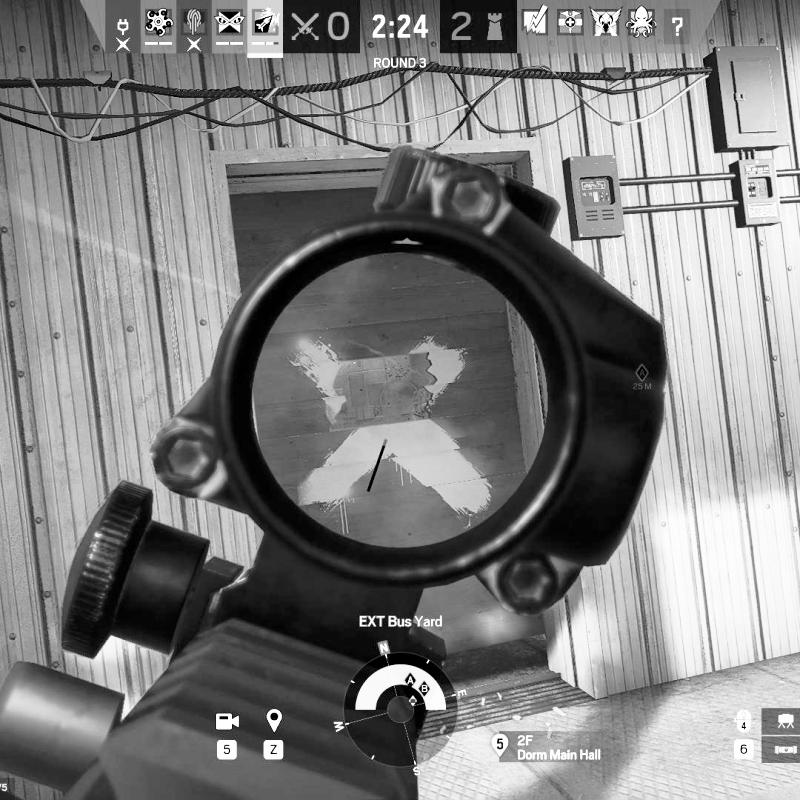Character: (414, 375, 434, 420)
